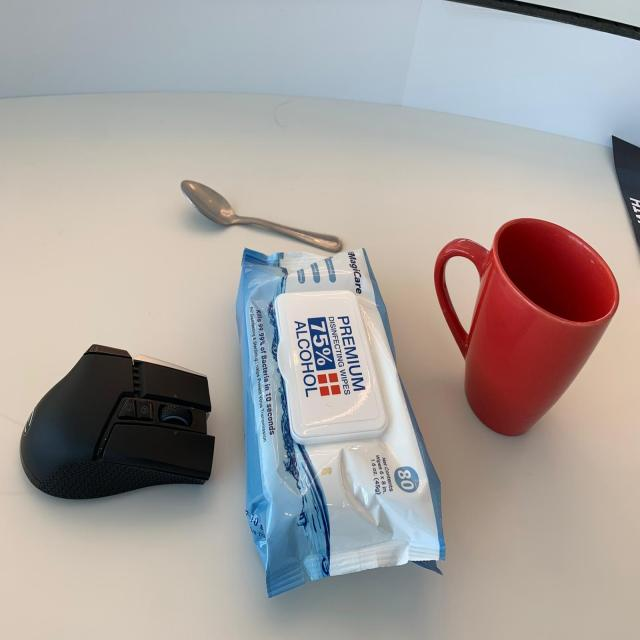Cup: (428, 209, 626, 443)
Mouse: (22, 331, 222, 504)
Spoon: (168, 166, 347, 257)
